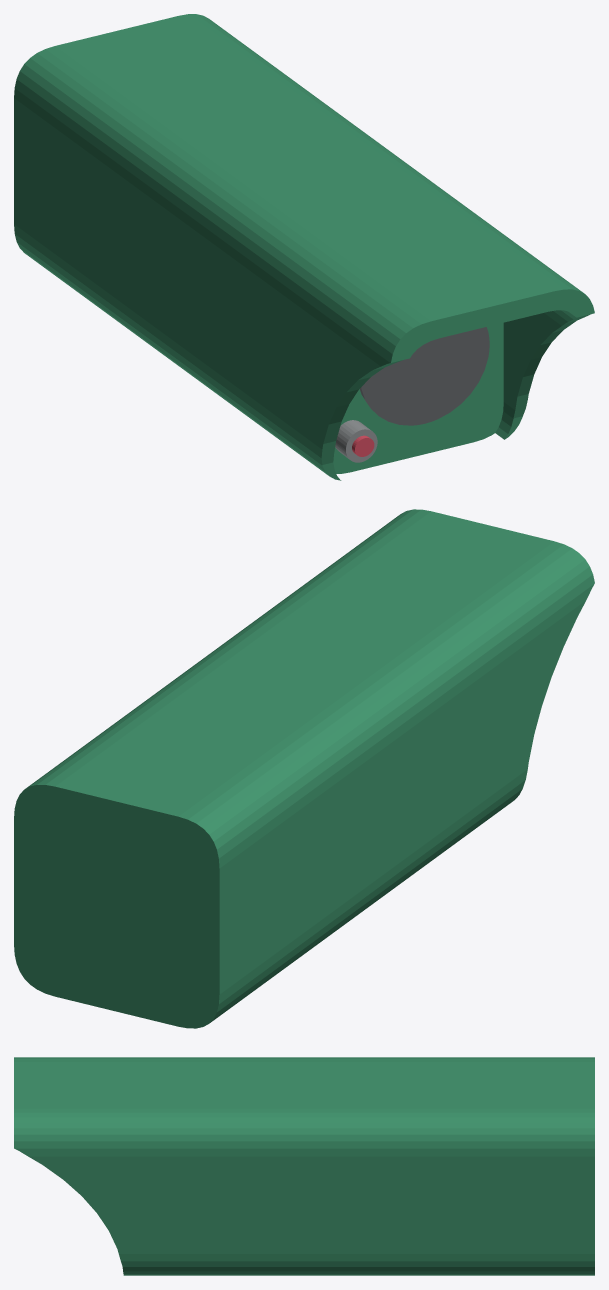
The model's file is Planned Camera Dark Green.glb.
3 renders of one model, top to bottom at view 1: azimuth 30°, elevation 25°; view 2: azimuth 150°, elevation 25°; view 3: azimuth 270°, elevation 25°, orthographic. The views are drawn at different scales.
Parts seen in each view (by area): view 1: Mesh_Mesh_head_geo.001_lambert2SG.001; view 2: Mesh_Mesh_head_geo.001_lambert2SG.001; view 3: Mesh_Mesh_head_geo.001_lambert2SG.001.
Part boxes in pixels (x1,y1,x2,y2): Mesh_Mesh_head_geo.001_lambert2SG.001: [14, 14, 594, 480]; Mesh_Mesh_head_geo.001_lambert2SG.001: [14, 509, 594, 1028]; Mesh_Mesh_head_geo.001_lambert2SG.001: [14, 1057, 594, 1275].
Size of the model in its own units: 33.87 by 33.08 by 107.
